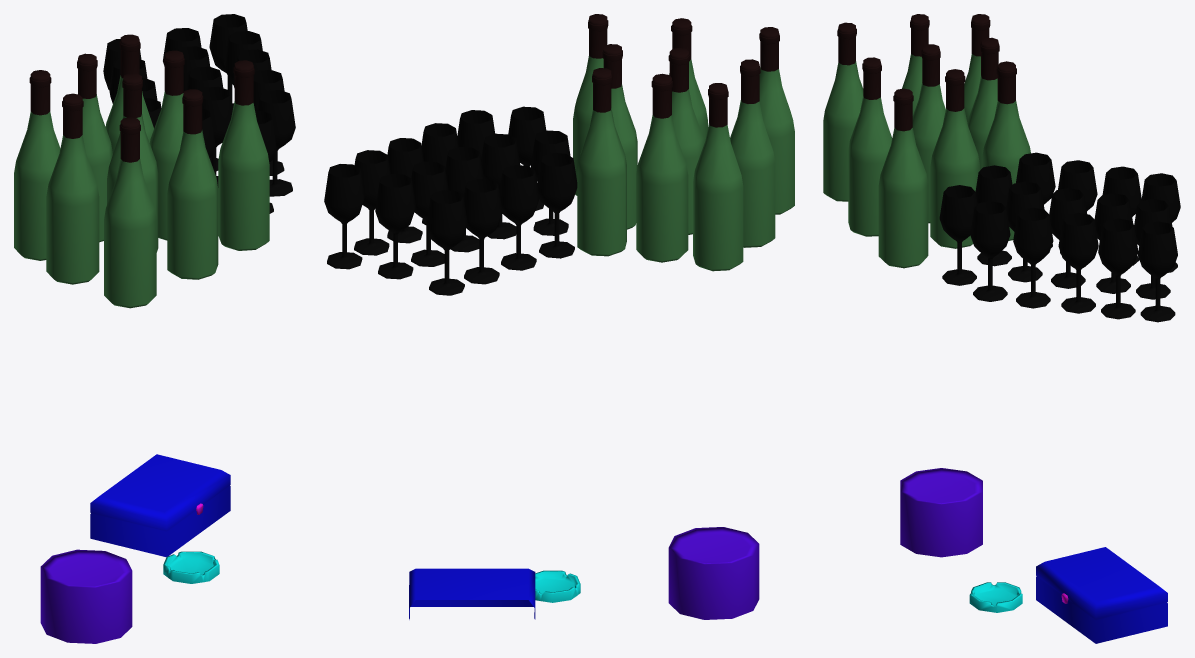
Rendered from SM_ShelfCabinetStuff_001.fbx.
3 views of the same model, side by side, from view 1: azimuth 30°, elevation 25°; view 2: azimuth 150°, elevation 25°; view 3: azimuth 270°, elevation 25° (orthographic). The views are drawn at different scales.
Parts seen in each view (by area): view 1: SM_ShelfCabinetStuff_001; view 2: SM_ShelfCabinetStuff_001; view 3: SM_ShelfCabinetStuff_001.
Part boxes in pixels (box(x1,y1,x2,y2)): SM_ShelfCabinetStuff_001: box(14, 14, 295, 643); SM_ShelfCabinetStuff_001: box(324, 14, 794, 619); SM_ShelfCabinetStuff_001: box(823, 14, 1180, 643).
Bounding box in the file's own units: 64.93 × 104 × 65.88.
